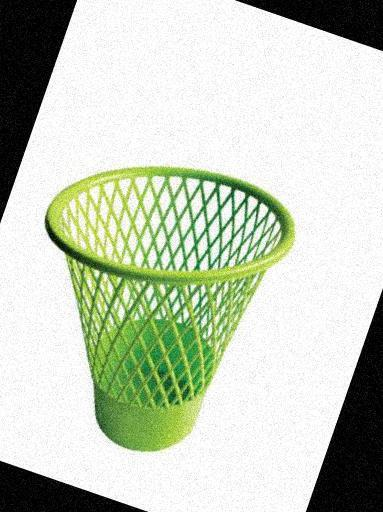Bote de Basura: (0, 119, 309, 476)
